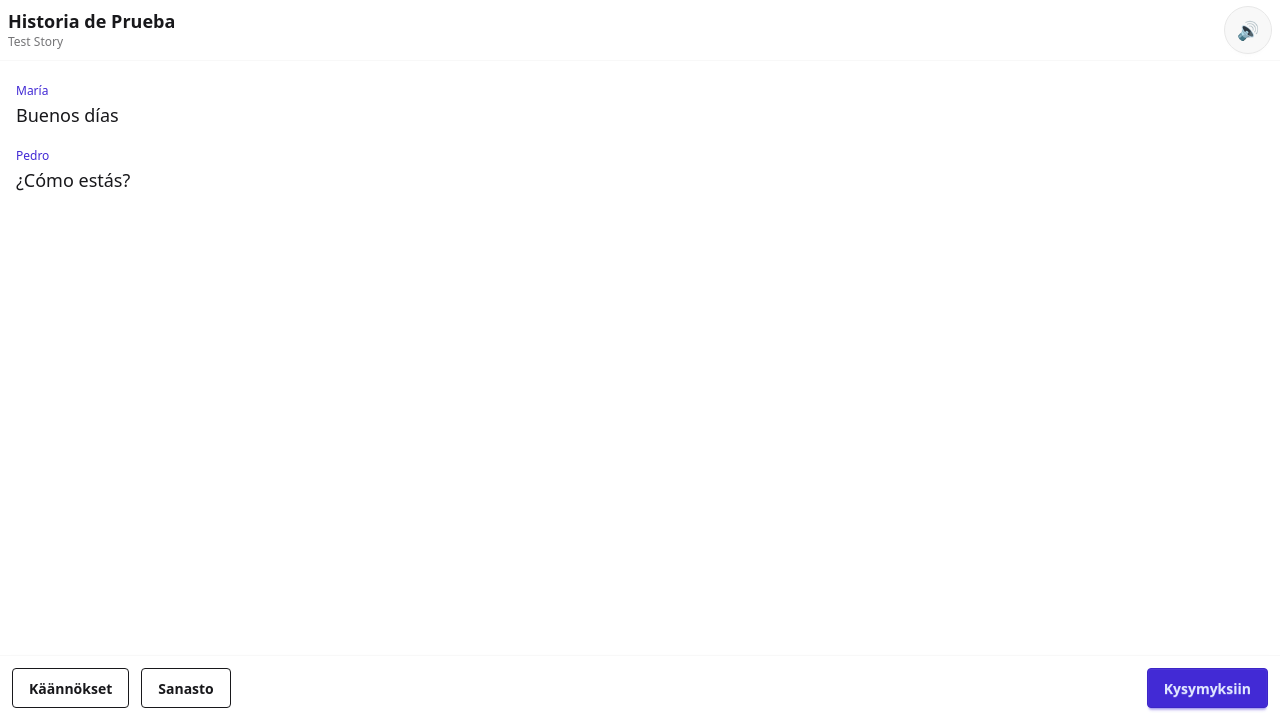
Test: StoryReader › toggles all translations with button
The width and height of the screenshot is (1280, 720).
Note: Click "Käännökset" button to show all translations
Click the button "Käännökset".
click(71, 688)  # box [12,668,129,708]
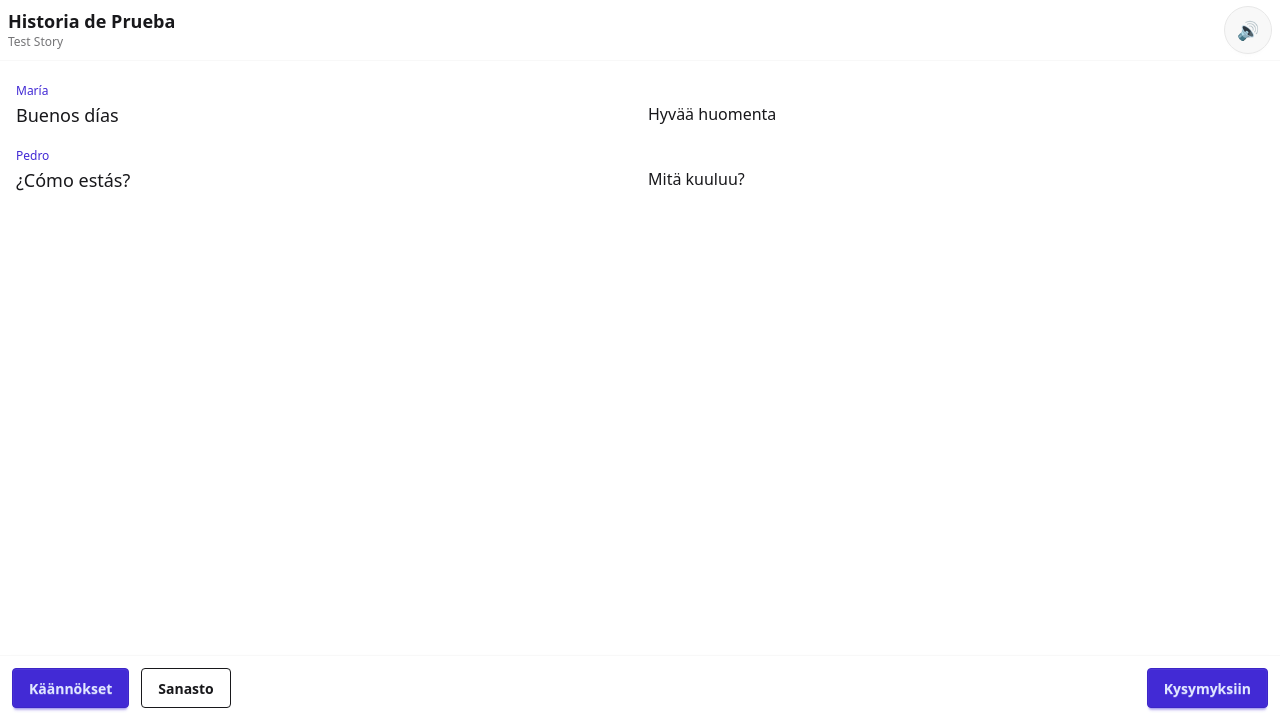
Result: the text "Hyvää huomenta" is shown at [648,103,776,125]
Result: the text "Mitä kuuluu?" is shown at [648,168,745,190]
Note: Click again to hide all
Click the button "Käännökset".
click(71, 688)  # box [12,668,129,708]
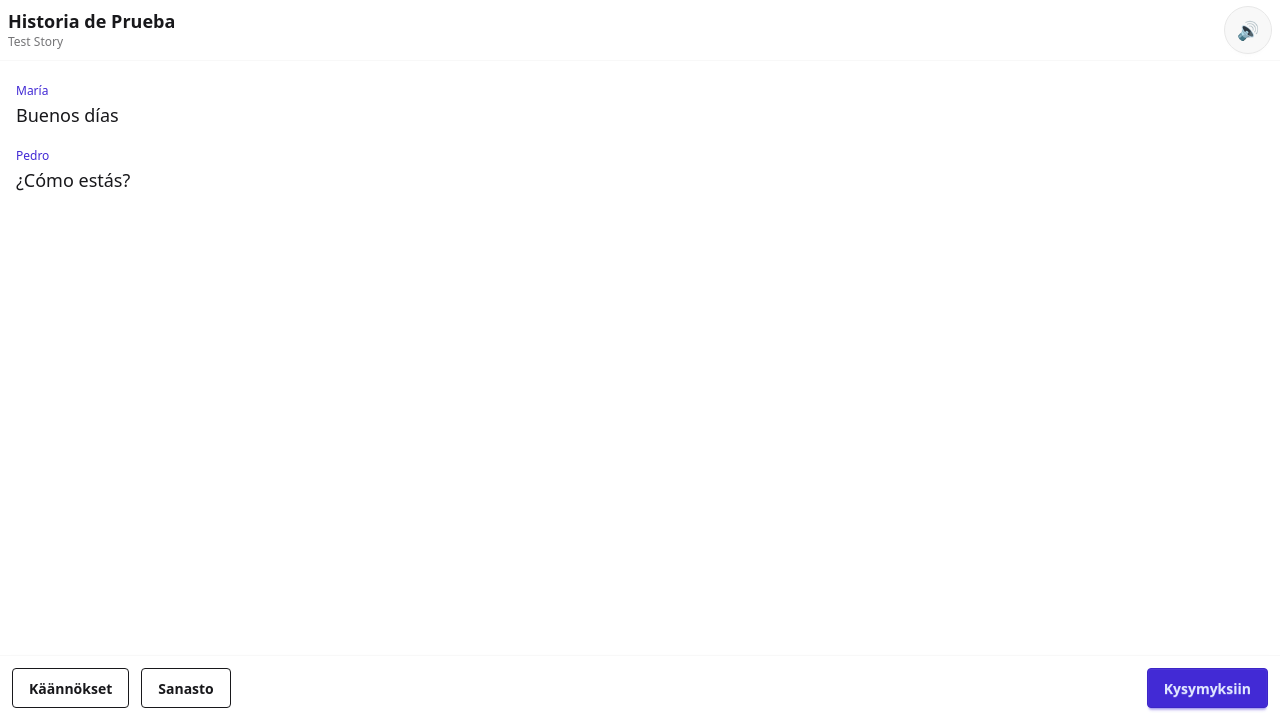
Result: the text "Hyvää huomenta" is gone
Result: the text "Mitä kuuluu?" is gone
